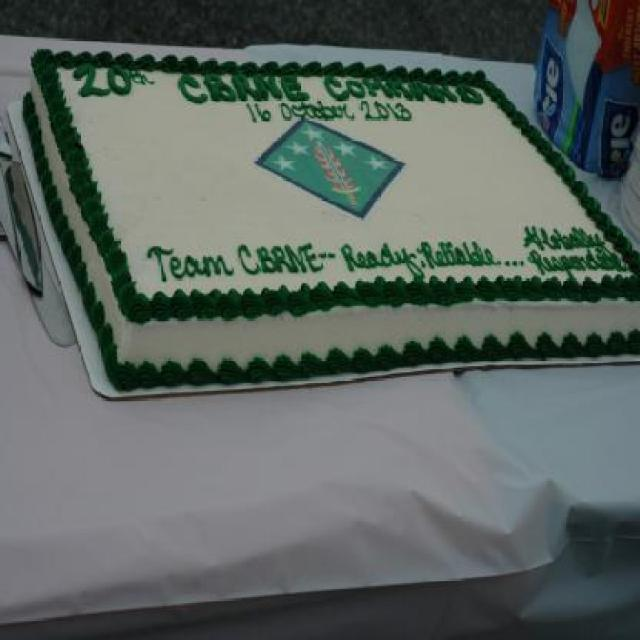Cake: (23, 43, 639, 394)
